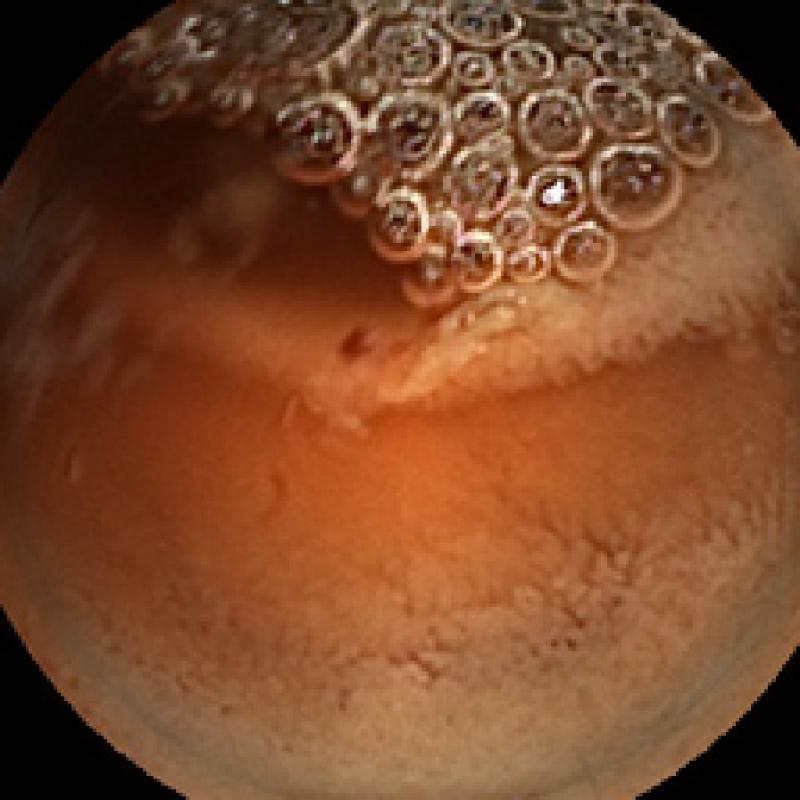bleeding: (322, 304, 396, 382)
